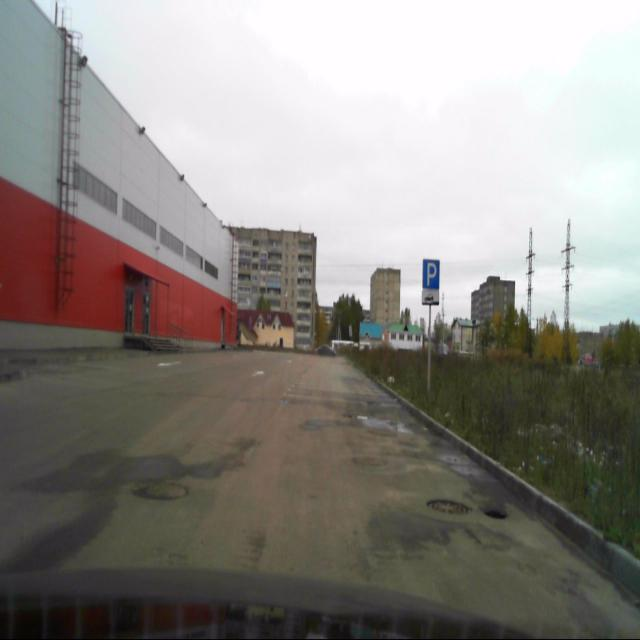object: (427, 307, 432, 390)
road sign: (422, 257, 440, 289), (422, 289, 440, 305)
